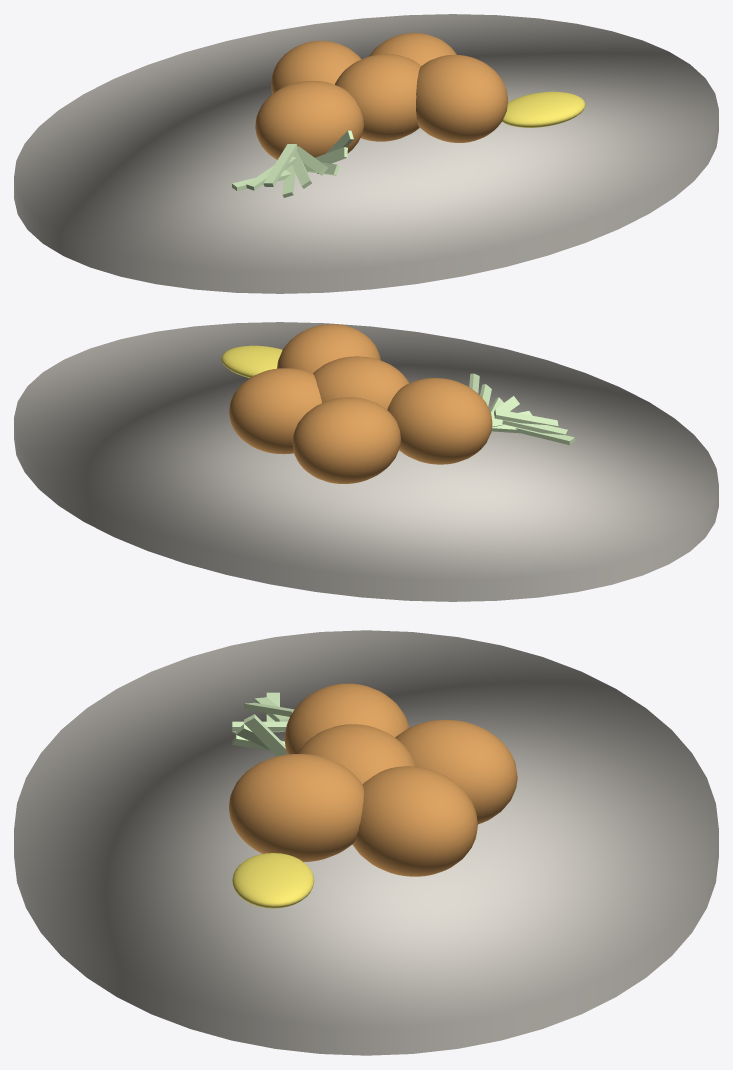
The model's file is fried_chicken_plate.glb.
The picture shows the model from 3 angles, top to bottom: view 1: azimuth 30°, elevation 25°; view 2: azimuth 150°, elevation 25°; view 3: azimuth 270°, elevation 25°; orthographic projection. The views are drawn at different scales.
Bounding box in the file's own units: 2.53 × 0.4 × 1.89.
